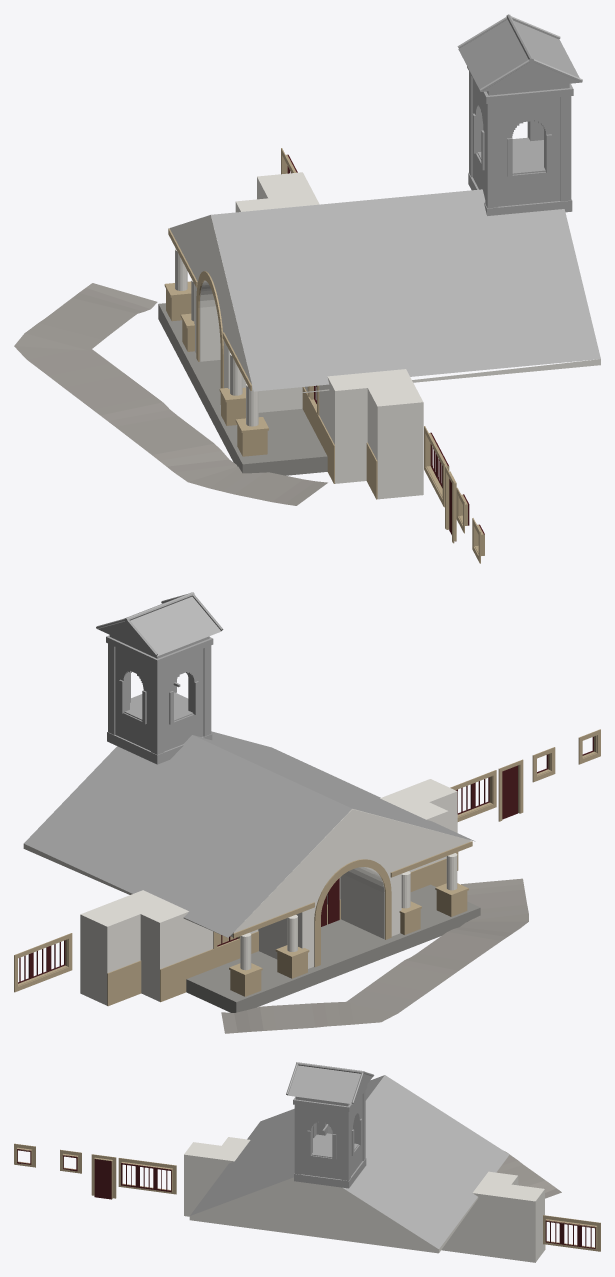
3 renders of one model, top to bottom at view 1: azimuth 30°, elevation 25°; view 2: azimuth 150°, elevation 25°; view 3: azimuth 270°, elevation 25°, orthographic. The views are drawn at different scales.
Parts seen in each view (by area): view 1: Children's Center roof W entry gable (photo eave 113.55 / Li, Children's Center entry pediment, arch piers + vault, porch , Children's Center bell-cote (asset BellCote_RedTile_Children, Children's Center walk dropoff_apron (ne2), Children's Center tan base band, arch band, pedestals (photo, Children's Center porch slab (photo; edge UNVERIFIED), Children's Center entry doors, side lites, fan transom munti; view 2: Children's Center roof W entry gable (photo eave 113.55 / Li, Children's Center entry pediment, arch piers + vault, porch , Children's Center bell-cote (asset BellCote_RedTile_Children, Children's Center tan base band, arch band, pedestals (photo, Children's Center walk dropoff_apron (ne2), Children's Center porch slab (photo; edge UNVERIFIED), Children's Center entry doors, side lites, fan transom munti; view 3: Children's Center roof W entry gable (photo eave 113.55 / Li, Children's Center entry pediment, arch piers + vault, porch , Children's Center bell-cote (asset BellCote_RedTile_Children, Children's Center tan base band, arch band, pedestals (photo, Children's Center entry doors, side lites, fan transom munti, Children's Center walk dropoff_apron (ne2).
Boxes of the visible parts, box(x1,y1,x2,y2) form: Children's Center roof W entry gable (photo eave 113.55 / Li: box(168, 189, 600, 397); Children's Center entry pediment, arch piers + vault, porch : box(170, 172, 423, 499); Children's Center bell-cote (asset BellCote_RedTile_Children: box(457, 14, 582, 215); Children's Center walk dropoff_apron (ne2): box(14, 283, 327, 505); Children's Center tan base band, arch band, pedestals (photo: box(164, 148, 484, 563); Children's Center porch slab (photo; edge UNVERIFIED): box(158, 303, 327, 475); Children's Center entry doors, side lites, fan transom munti: box(287, 154, 484, 541); Children's Center roof W entry gable (photo eave 113.55 / Li: box(23, 731, 475, 937); Children's Center entry pediment, arch piers + vault, porch : box(80, 779, 470, 1005); Children's Center bell-cote (asset BellCote_RedTile_Children: box(96, 592, 223, 764); Children's Center tan base band, arch band, pedestals (photo: box(14, 729, 600, 1006); Children's Center walk dropoff_apron (ne2): box(221, 878, 528, 1033); Children's Center porch slab (photo; edge UNVERIFIED): box(186, 884, 480, 1012); Children's Center entry doors, side lites, fan transom munti: box(18, 736, 593, 983); Children's Center roof W entry gable (photo eave 113.55 / Li: box(189, 1075, 509, 1253); Children's Center entry pediment, arch piers + vault, porch : box(184, 1137, 544, 1262); Children's Center bell-cote (asset BellCote_RedTile_Children: box(286, 1062, 374, 1188); Children's Center tan base band, arch band, pedestals (photo: box(14, 1143, 600, 1251); Children's Center entry doors, side lites, fan transom munti: box(17, 1149, 595, 1248); Children's Center walk dropoff_apron (ne2): box(497, 1151, 561, 1198).
Size of the model in its own units: 17.64 by 11.87 by 29.2.
